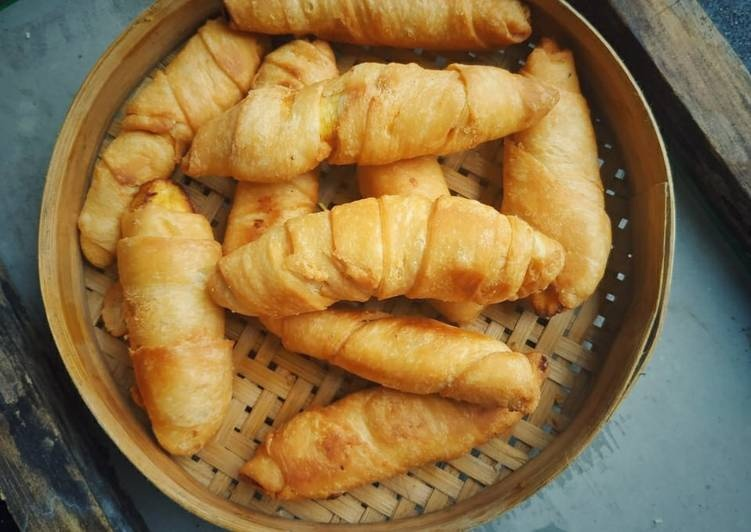pisang_molen: (181, 61, 558, 183), (209, 192, 546, 318), (116, 178, 227, 456)
